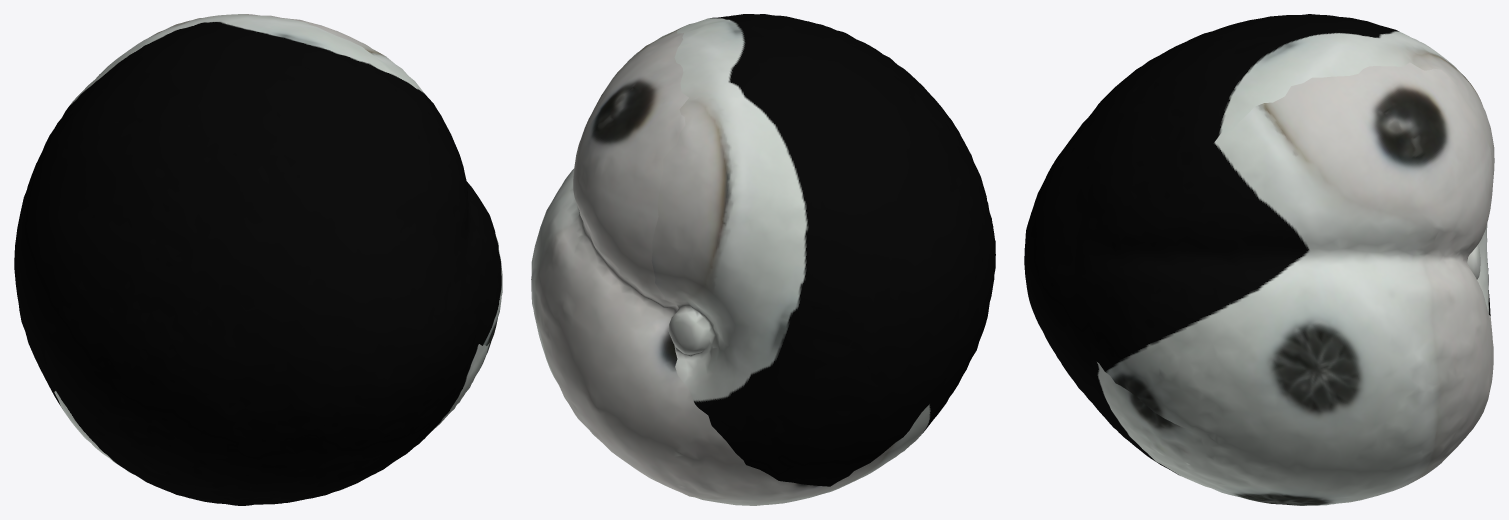
The picture shows the model from 3 angles, left to right: view 1: azimuth 30°, elevation 25°; view 2: azimuth 150°, elevation 25°; view 3: azimuth 270°, elevation 25°; orthographic projection. The views are drawn at different scales.
Parts seen in each view (by area): view 1: textured.017; view 2: textured.017; view 3: textured.017.
Boxes of the visible parts, x1=… form: textured.017: x1=14, y1=14, x2=502, y2=505; textured.017: x1=531, y1=14, x2=995, y2=505; textured.017: x1=1024, y1=14, x2=1494, y2=505.
Bounding box in the file's own units: 0.0549 × 0.0572 × 0.053.
